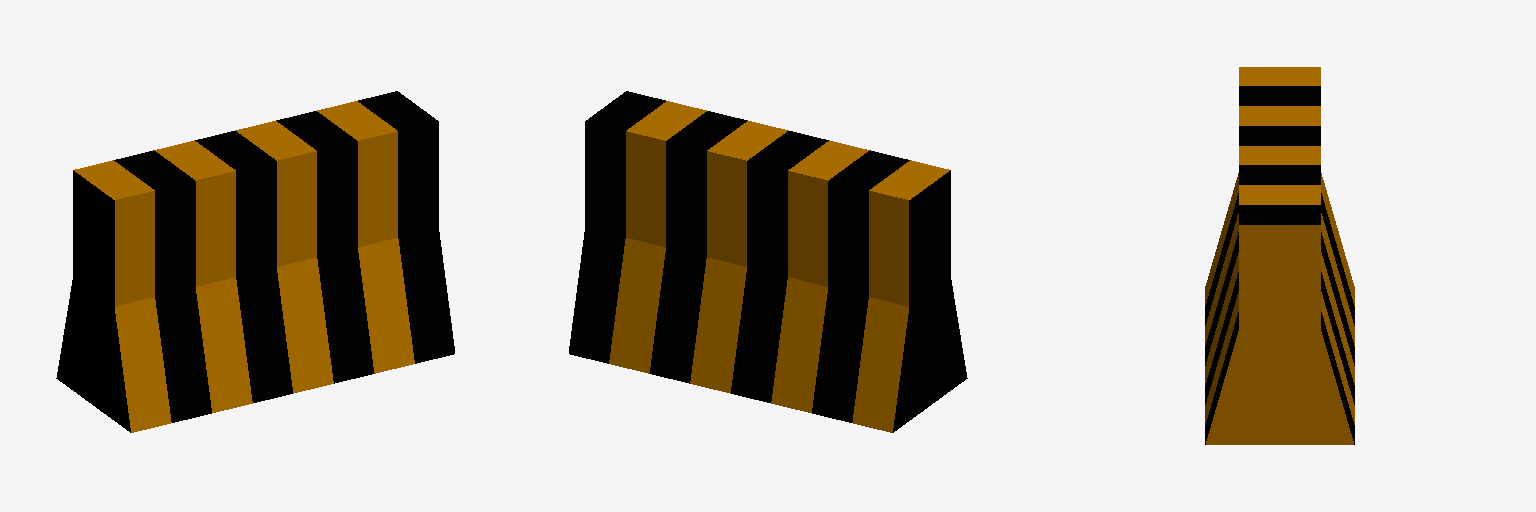
The model's file is TrafficBarrier_03.obj.
The picture shows the model from 3 angles: view 1: azimuth 30°, elevation 25°; view 2: azimuth 150°, elevation 25°; view 3: azimuth 270°, elevation 25°; orthographic projection.
Visible parts, largest first — view 1: TrafficBarrier_03_Cube.023; view 2: TrafficBarrier_03_Cube.023; view 3: TrafficBarrier_03_Cube.023.
Boxes of the visible parts, x1,y1,x2,y2 form: TrafficBarrier_03_Cube.023: [56, 91, 454, 432]; TrafficBarrier_03_Cube.023: [569, 91, 967, 432]; TrafficBarrier_03_Cube.023: [1205, 67, 1354, 444].
Bounding box in the file's own units: 12.71 × 8.26 × 5.07.